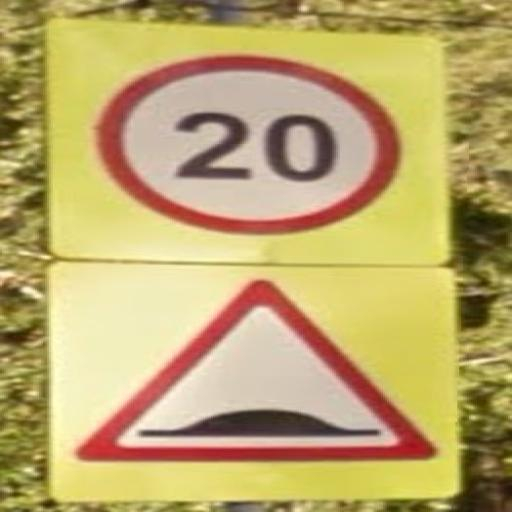traffic_sign: (72, 278, 447, 467), (87, 53, 406, 241)
